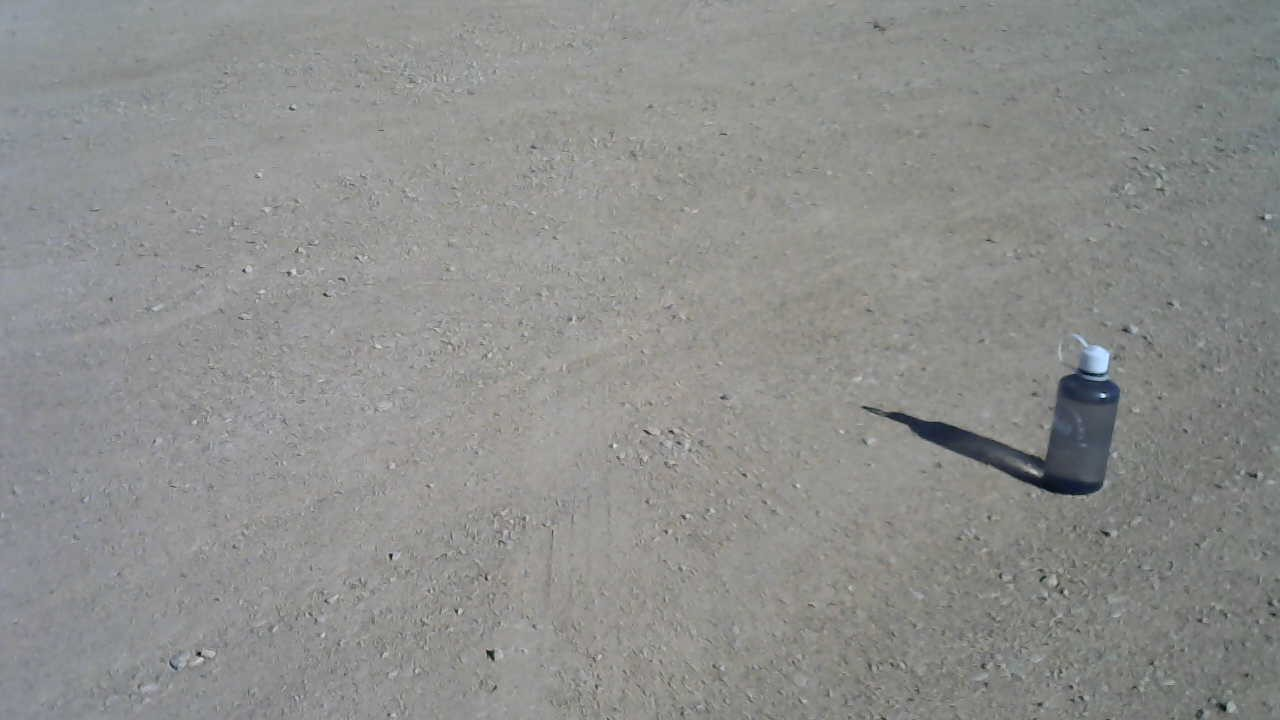bottle: (1039, 328, 1123, 496)
